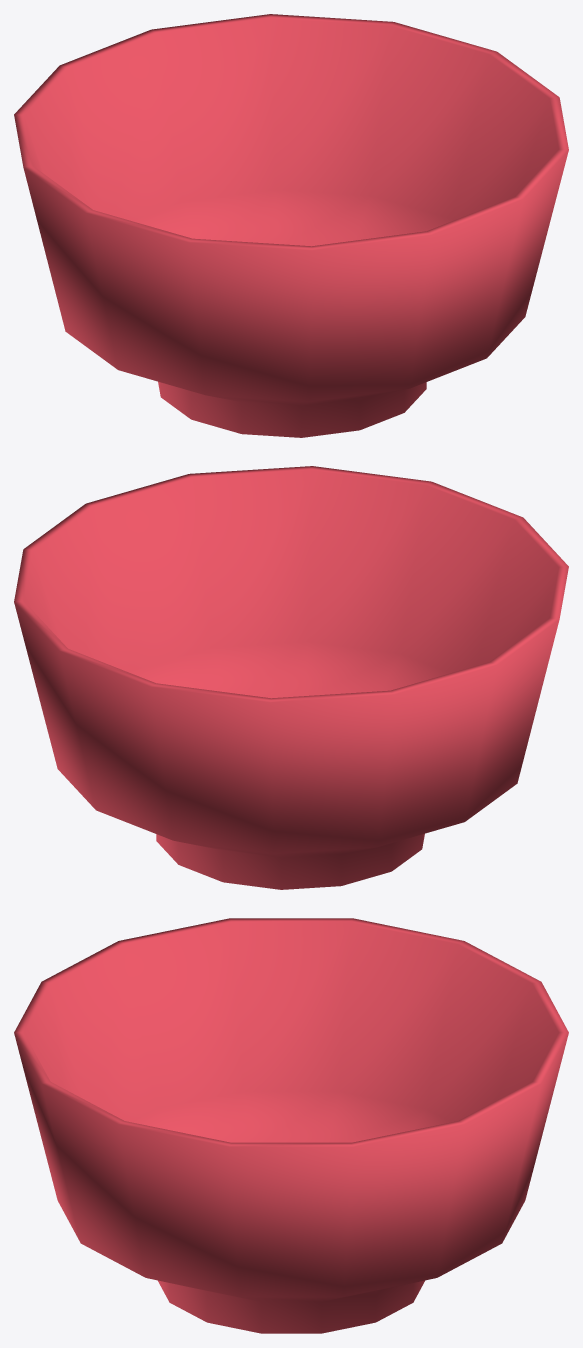
Rendered from PinkSBowl.fbx.
3 views of the same model, one above another, from view 1: azimuth 30°, elevation 25°; view 2: azimuth 150°, elevation 25°; view 3: azimuth 270°, elevation 25° (orthographic).
Visible parts, largest first — view 1: bowl.005; view 2: bowl.005; view 3: bowl.005.
Boxes of the visible parts, box(x1,y1,x2,y2) form: bowl.005: box(14, 14, 568, 437); bowl.005: box(14, 466, 568, 889); bowl.005: box(14, 918, 568, 1333).
Bounding box in the file's own units: 342 × 171 × 351.
